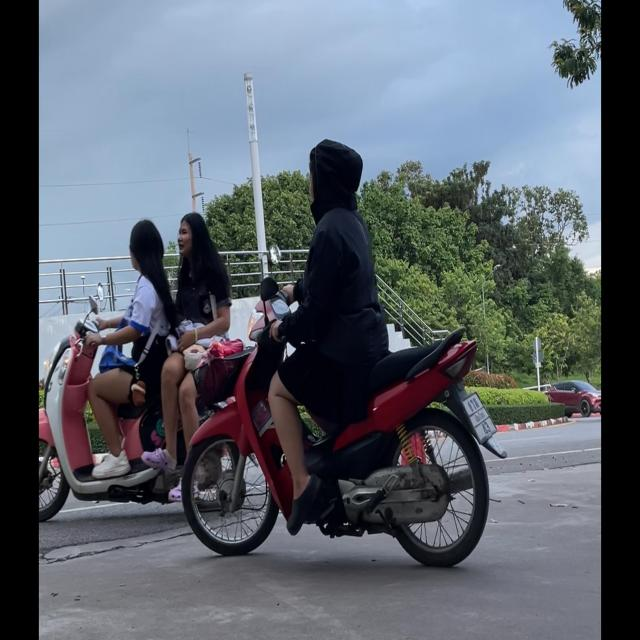seatbelt: (304, 137, 366, 217), (128, 218, 164, 273), (175, 210, 209, 259)
